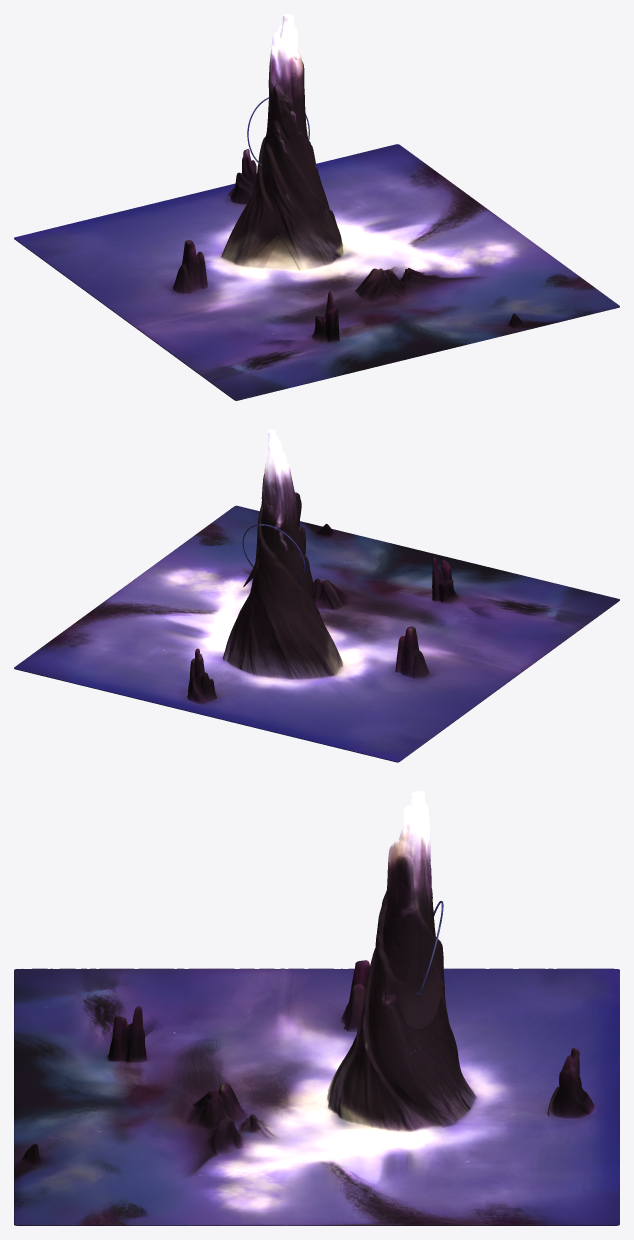
File: mount-targon.glb
3 renders of one model, top to bottom at view 1: azimuth 30°, elevation 25°; view 2: azimuth 150°, elevation 25°; view 3: azimuth 270°, elevation 25°, orthographic. The views are drawn at different scales.
Visible parts, largest first — view 1: mesh_node; view 2: mesh_node; view 3: mesh_node.
Part boxes in pixels (x1,y1,x2,y2): mesh_node: (14, 14, 619, 400); mesh_node: (14, 429, 619, 762); mesh_node: (14, 791, 619, 1225).
Size of the model in its own units: 1.9 by 1.08 by 1.9.
Materials: 1 (1 with a texture image).
